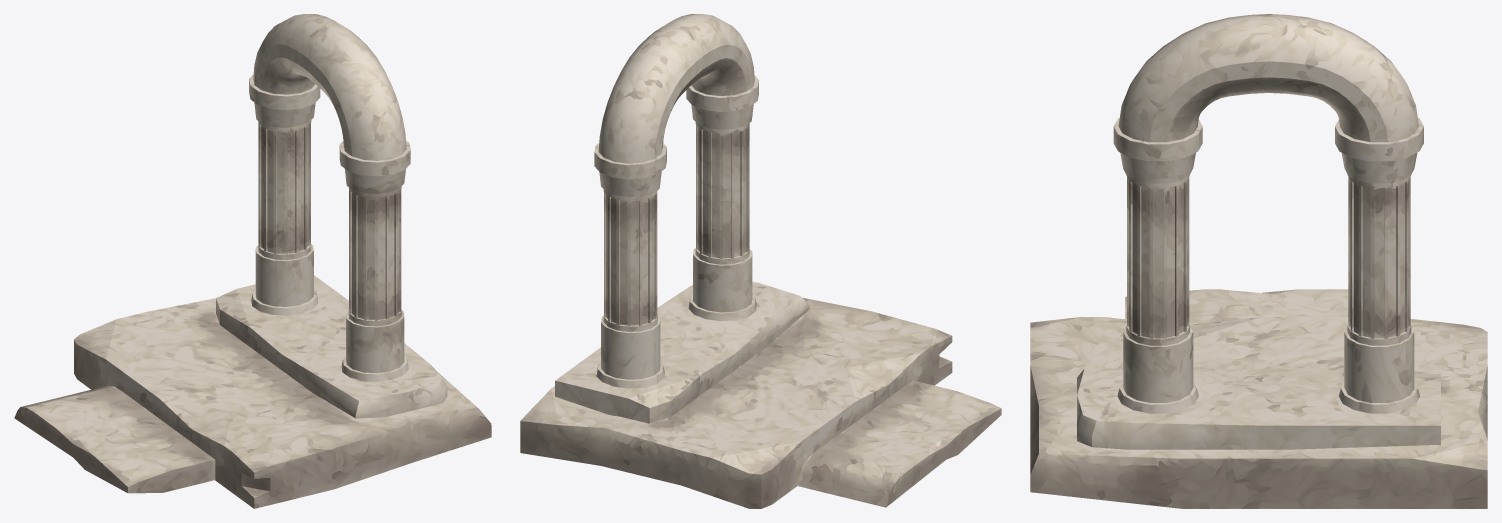
Rendered from ruina_2_podstawa.obj.
3 renders of one model, left to right at view 1: azimuth 30°, elevation 25°; view 2: azimuth 150°, elevation 25°; view 3: azimuth 270°, elevation 25°, orthographic. The views are drawn at different scales.
Parts seen in each view (by area): view 1: Cylinder.012; view 2: Cylinder.012; view 3: Cylinder.012.
Part boxes in pixels (x1,y1,x2,y2): Cylinder.012: [14, 14, 491, 508]; Cylinder.012: [520, 14, 1001, 508]; Cylinder.012: [1030, 14, 1487, 508].
Bounding box in the file's own units: 34.15 × 37.15 × 34.01.
2 materials, 2 textured.
